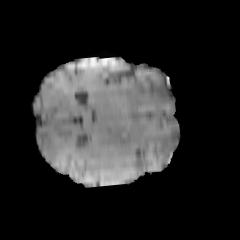glioma: (70, 126, 147, 185)
